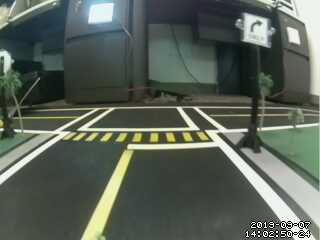Right_only_sign: (241, 11, 271, 47)
